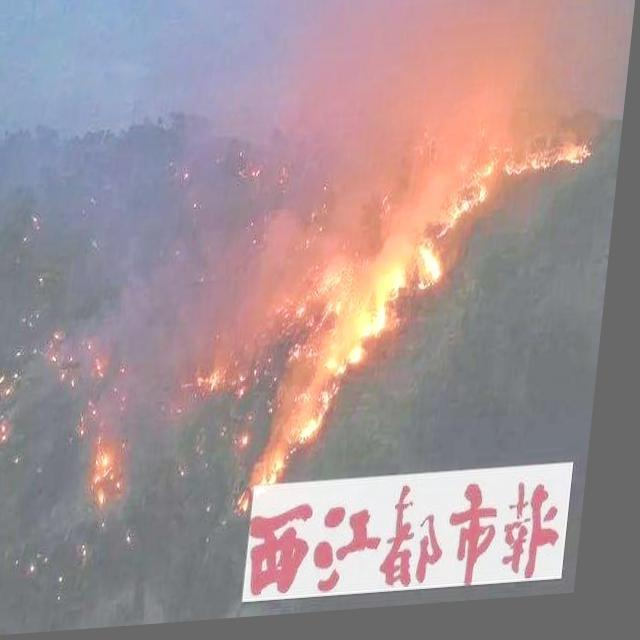Fire: (204, 113, 600, 495), (98, 438, 134, 512)
